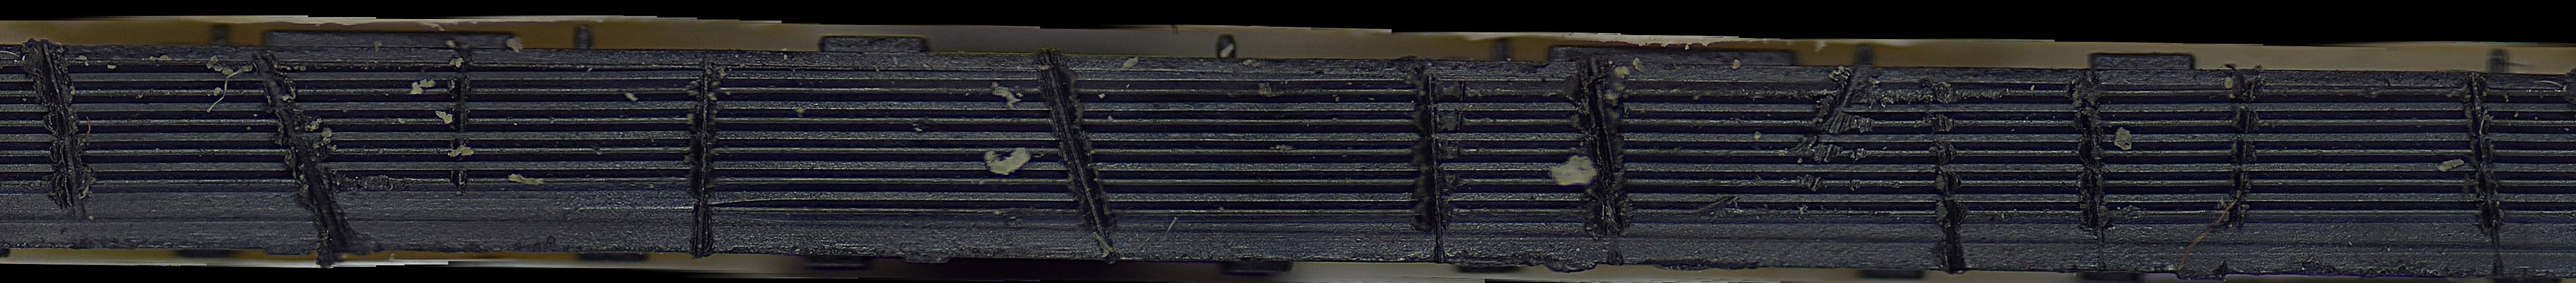Scratches: (241, 46, 379, 258), (1033, 46, 1117, 245), (13, 39, 105, 216), (1562, 51, 1641, 240), (1907, 76, 1975, 278), (1792, 58, 1884, 202), (1393, 64, 1461, 258), (2461, 71, 2522, 271), (675, 63, 731, 260), (2062, 66, 2116, 265), (2215, 69, 2267, 229), (437, 46, 485, 189)
dust: (2180, 184, 2241, 265), (186, 49, 256, 110), (973, 137, 1042, 181), (973, 77, 1037, 117), (404, 77, 457, 123), (1546, 150, 1597, 196), (508, 165, 549, 191), (2111, 122, 2141, 156), (442, 141, 483, 163), (2436, 148, 2466, 176)
